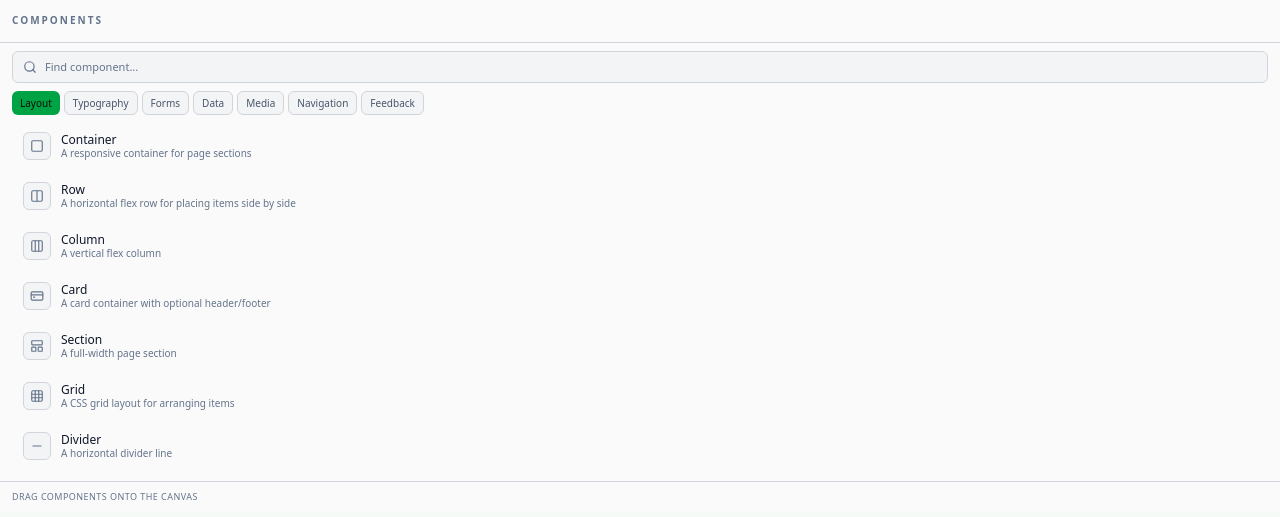
ComponentPalette › searches across all categories when typing
Note: Start on Layout, see layout components
Click the button "Forms". click: x=165, y=103
box: x1=142 y1=91 x2=189 y2=115
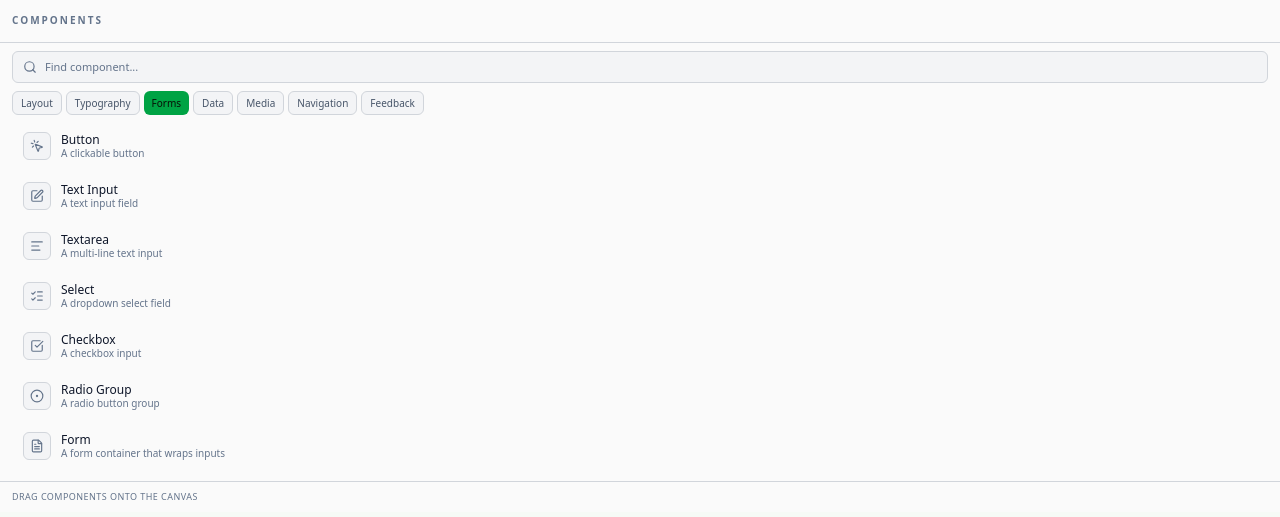
Note: Search for a typography component while on forms tab
Type "Heading" into the field with placeholder "Find component...". click: x=651, y=67
box: x1=45 y1=59 x2=1257 y2=75
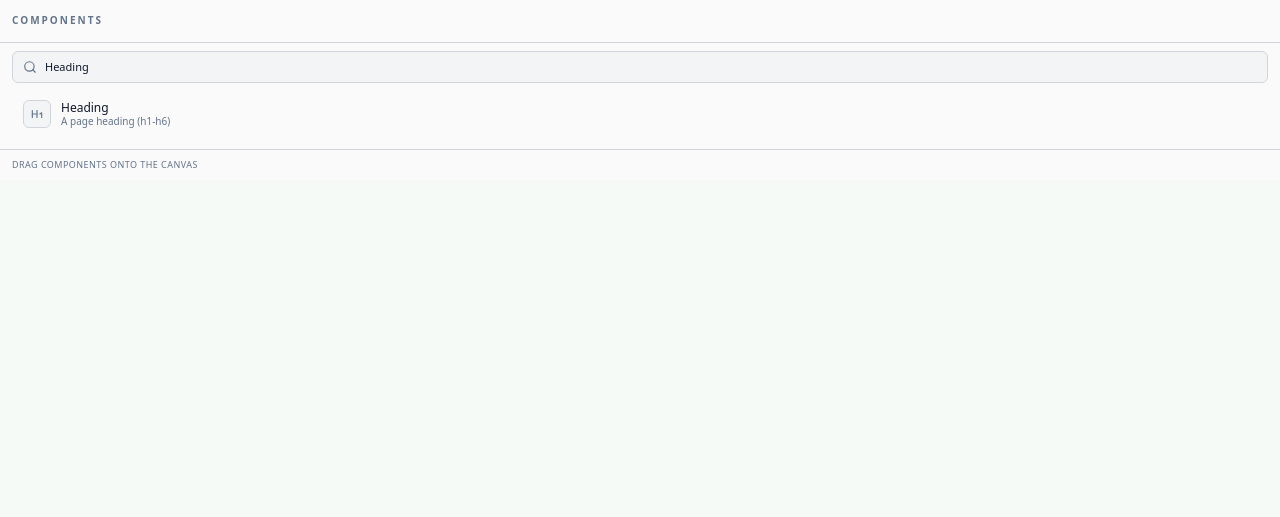
expect the text "Heading" is shown: met, box x1=61 y1=99 x2=109 y2=116
